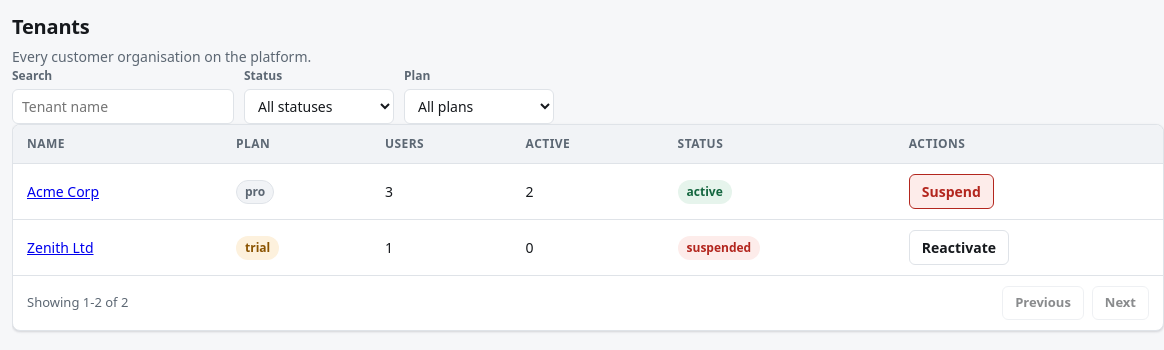
Test: TenantListPage › suspends a tenant and reflects the new status after refetch
Check: the link "Acme Corp" is shown, box x1=27 y1=182 x2=99 y2=201
Click the button "Suspend": (951, 192) x1=909 y1=174 x2=994 y2=209
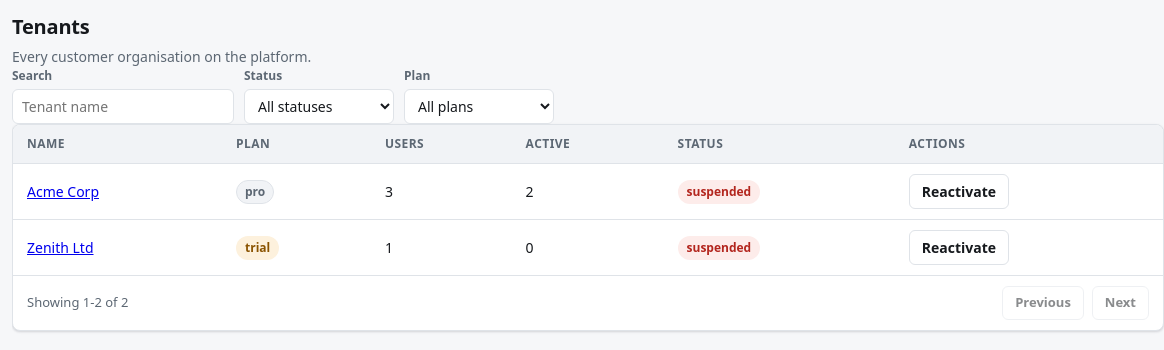
Check: the button "Reactivate" in the row of "Acme Corp" is shown, box x1=909 y1=174 x2=1009 y2=209
